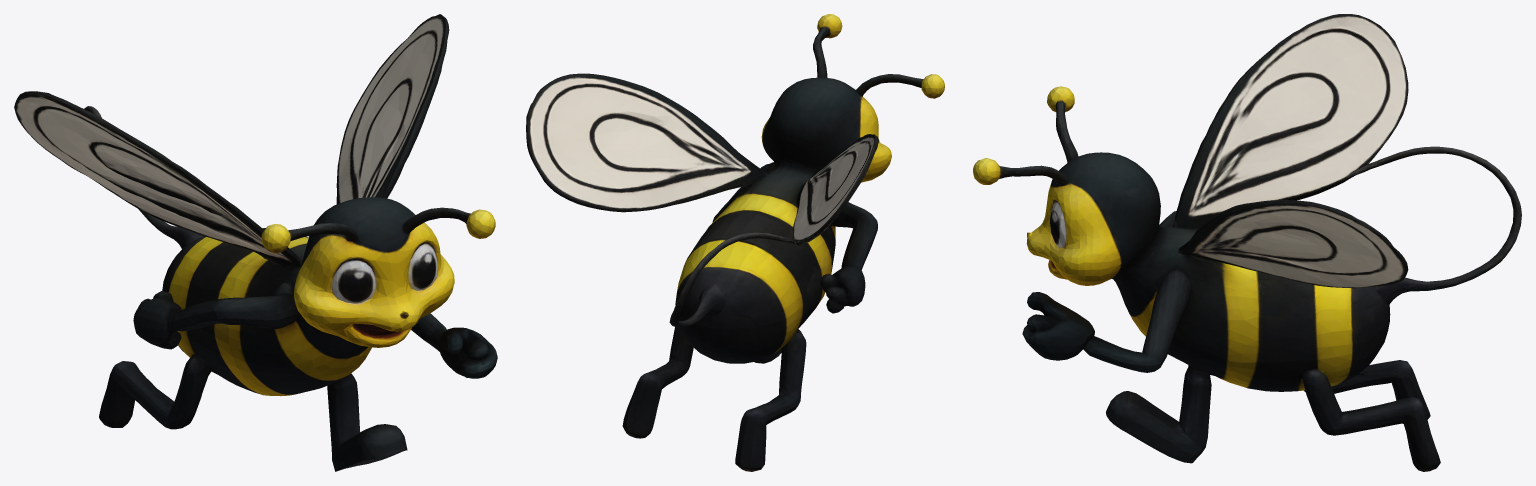
File: buzz.glb
3 renders of one model, left to right at view 1: azimuth 30°, elevation 25°; view 2: azimuth 150°, elevation 25°; view 3: azimuth 270°, elevation 25°, orthographic. The views are drawn at different scales.
Visible parts, largest first — view 1: world; view 2: world; view 3: world.
Boxes of the visible parts, x1,y1,x2,y2 form: world: [14, 14, 497, 471]; world: [526, 14, 944, 471]; world: [973, 14, 1521, 471].
Bounding box in the file's own units: 0.7739 × 0.7009 × 0.9655.
1 material, 1 textured.
